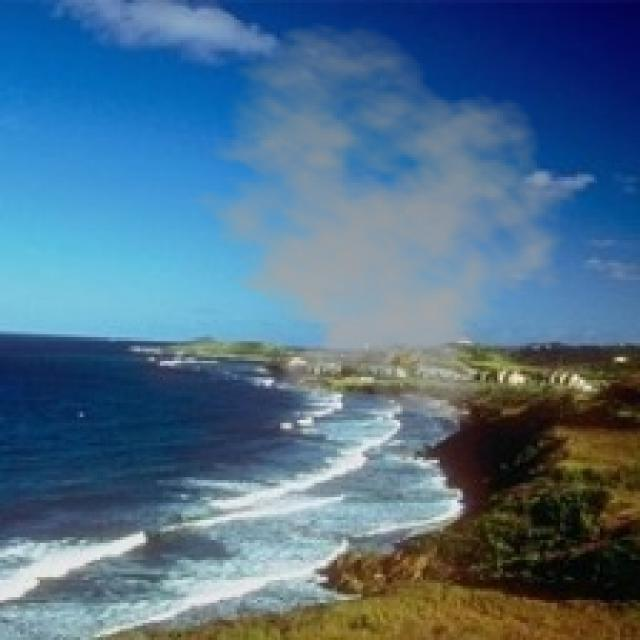Smoke: (171, 20, 583, 426)
